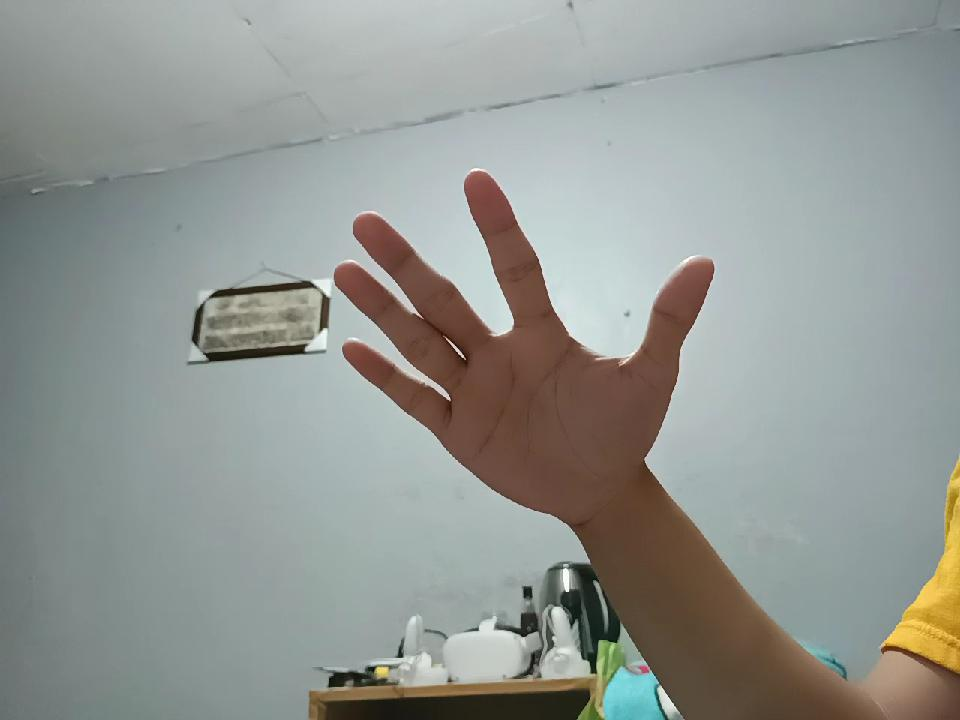paper: (340, 166, 712, 526)
